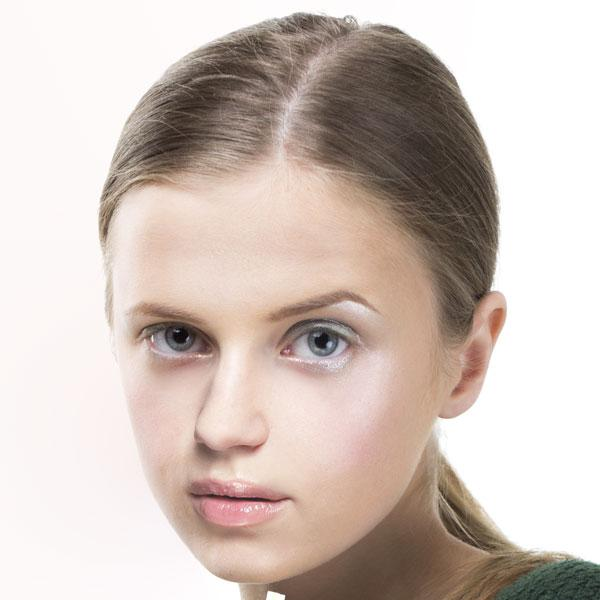Eyes: (266, 314, 368, 372), (130, 314, 222, 371)
